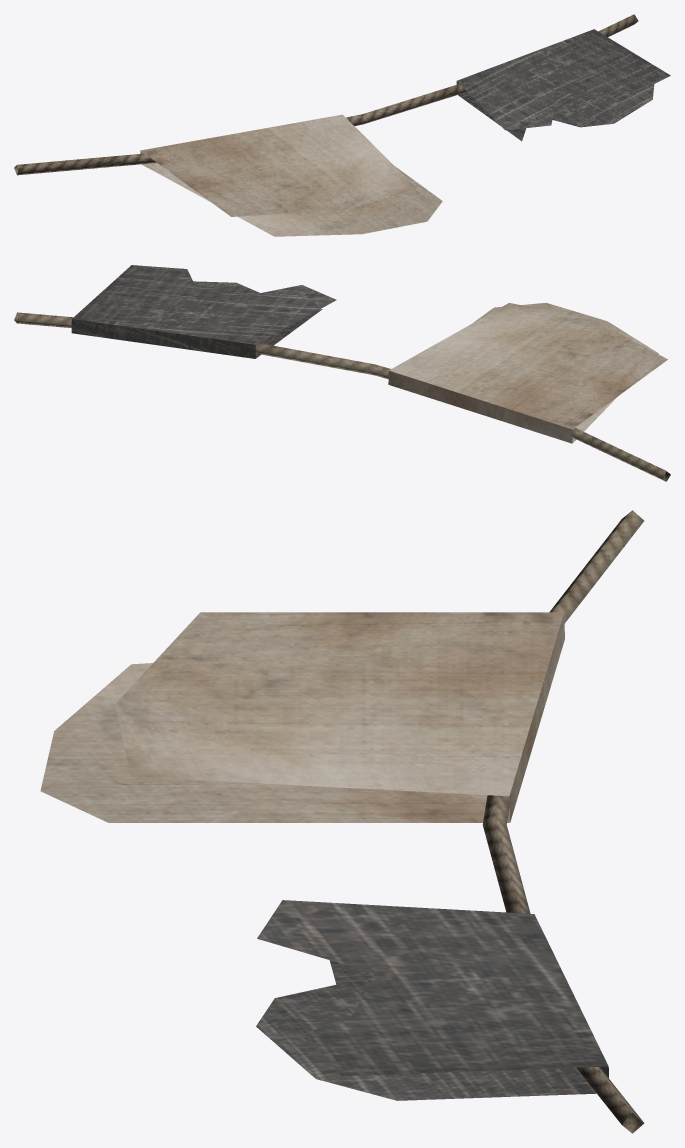
Rendered from Clothe_Line_Short_A.fbx.
The picture shows the model from 3 angles, top to bottom: view 1: azimuth 30°, elevation 25°; view 2: azimuth 150°, elevation 25°; view 3: azimuth 270°, elevation 25°; orthographic projection. The views are drawn at different scales.
Visible parts, largest first — view 1: Clothe_Line_Short_A; view 2: Clothe_Line_Short_A; view 3: Clothe_Line_Short_A.
Part boxes in pixels (x1,y1,x2,y2): Clothe_Line_Short_A: (14,14,670,236); Clothe_Line_Short_A: (14,265,670,481); Clothe_Line_Short_A: (40,510,644,1133).
Bounding box in the file's own units: 3.22 × 0.0676 × 1.36.
